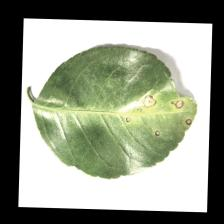canker: (124, 78, 196, 144)
